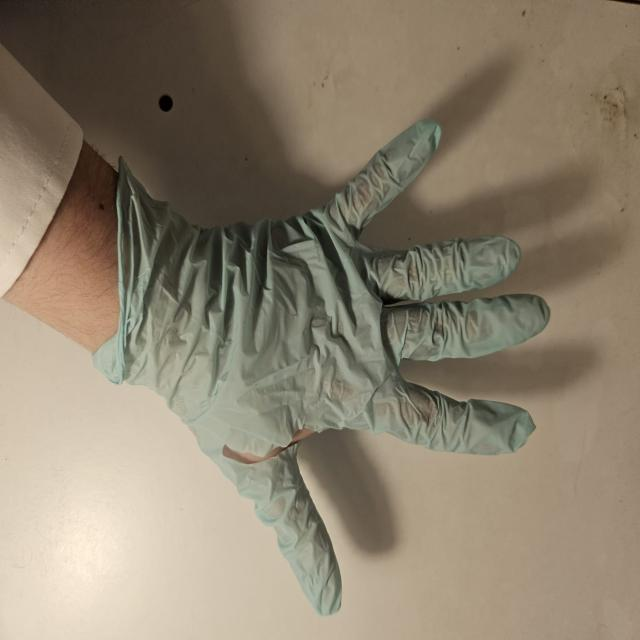gloves_damaged: (99, 118, 556, 617)
